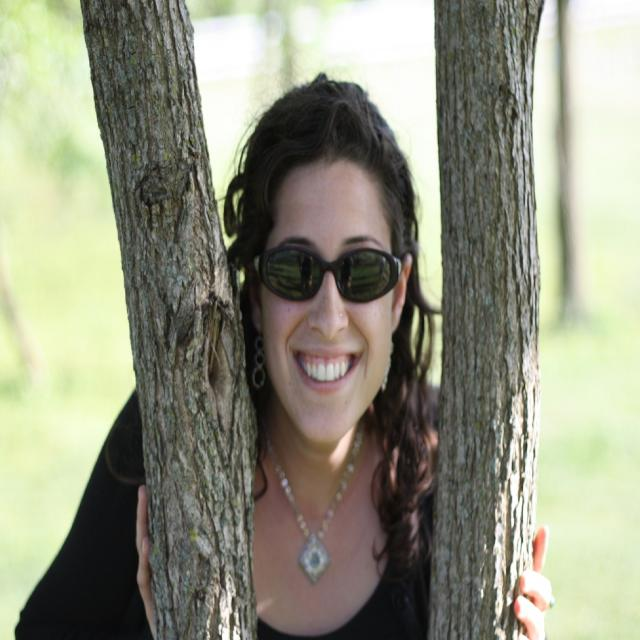Glasses: (251, 236, 411, 314)
